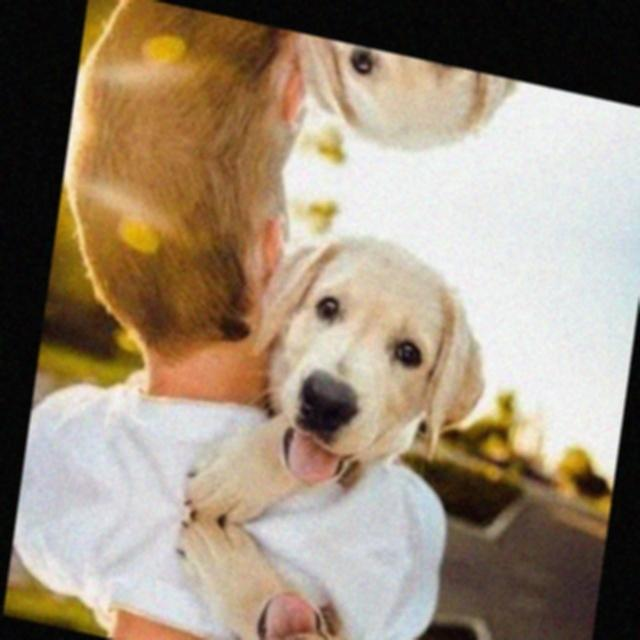dog: (240, 202, 484, 526), (286, 34, 508, 184), (214, 567, 434, 640)
